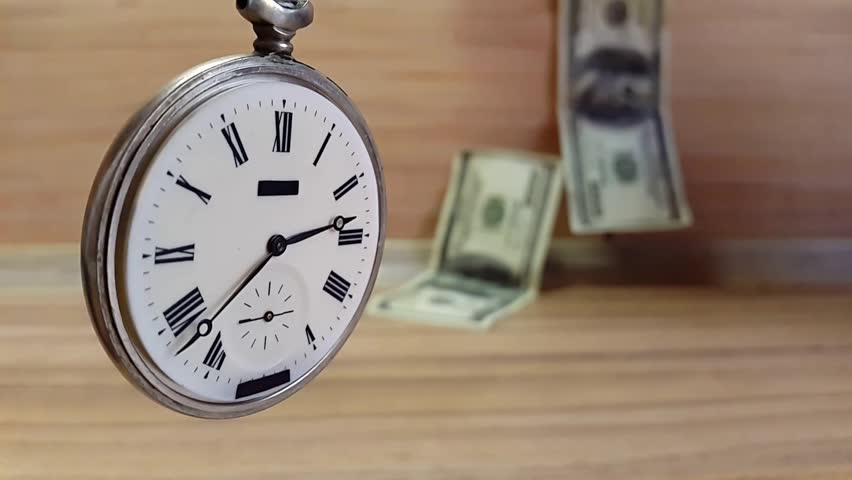clock: (130, 76, 380, 409)
